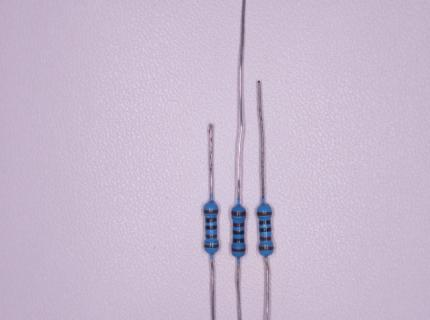Black band: (233, 237, 244, 243), (259, 227, 271, 232), (259, 220, 271, 225), (205, 218, 217, 223), (233, 230, 244, 235), (206, 225, 217, 230)
Brown band: (231, 210, 246, 217), (257, 211, 272, 217), (232, 247, 246, 253), (203, 209, 218, 214), (259, 246, 274, 251), (204, 243, 218, 248), (206, 233, 217, 239), (260, 236, 272, 241), (233, 222, 244, 227)
